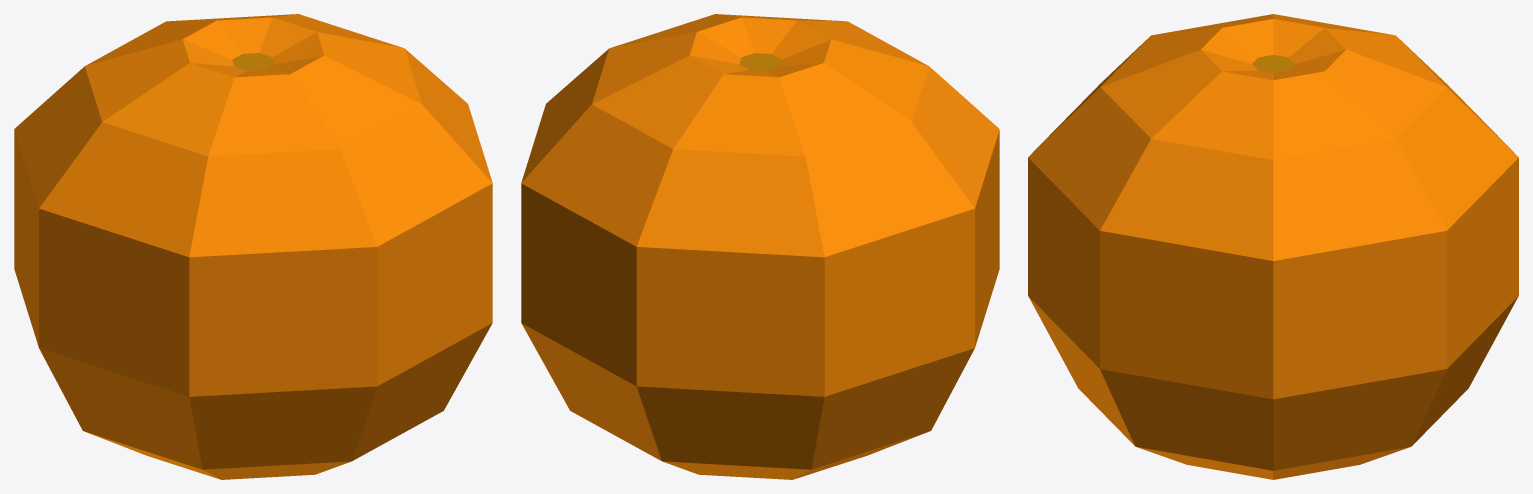
Rendered from orange01.obj.
The picture shows the model from 3 angles, left to right: view 1: azimuth 30°, elevation 25°; view 2: azimuth 150°, elevation 25°; view 3: azimuth 270°, elevation 25°; orthographic projection.
Parts seen in each view (by area): view 1: Cylinder; view 2: Cylinder; view 3: Cylinder.
Boxes of the visible parts, x1,y1,x2,y2 form: Cylinder: (14, 14, 492, 479); Cylinder: (521, 14, 999, 479); Cylinder: (1028, 14, 1518, 479).
Size of the model in its own units: 0.1007 by 0.0857 by 0.1007.
1 material, 1 textured.
